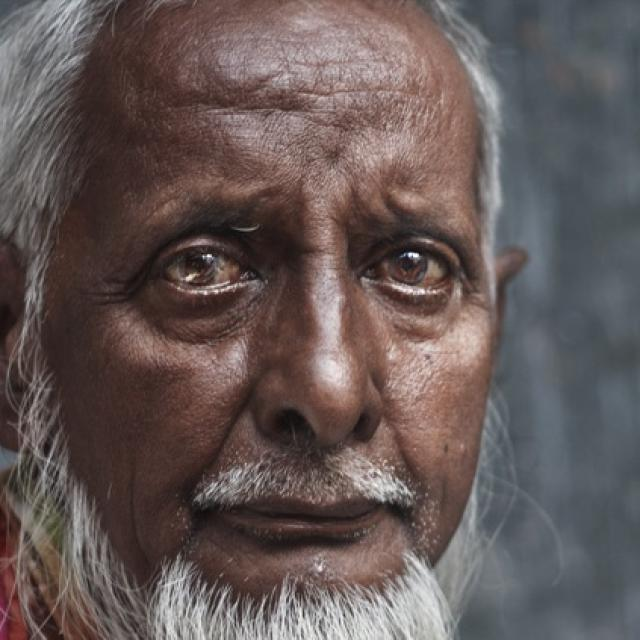Depress: (39, 0, 501, 632)
